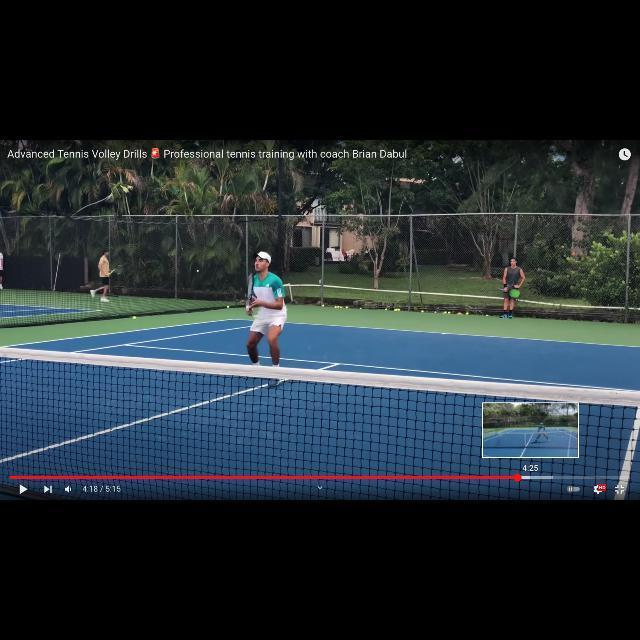tennis-ball: (133, 316, 136, 320), (421, 311, 424, 314), (444, 311, 447, 314), (466, 313, 469, 316), (227, 305, 229, 308), (322, 304, 324, 306), (337, 306, 339, 308), (334, 306, 336, 308), (345, 306, 347, 308), (398, 309, 400, 311), (394, 309, 396, 311)
